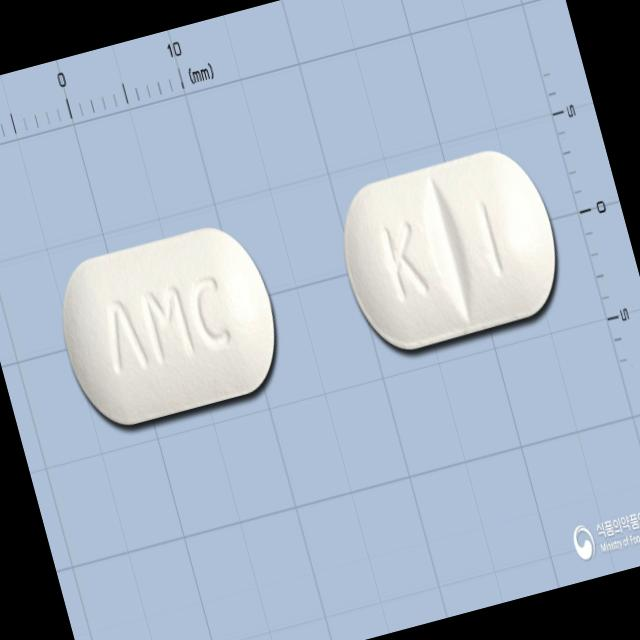Amocla Duo: (43, 211, 296, 444), (326, 139, 574, 364)
